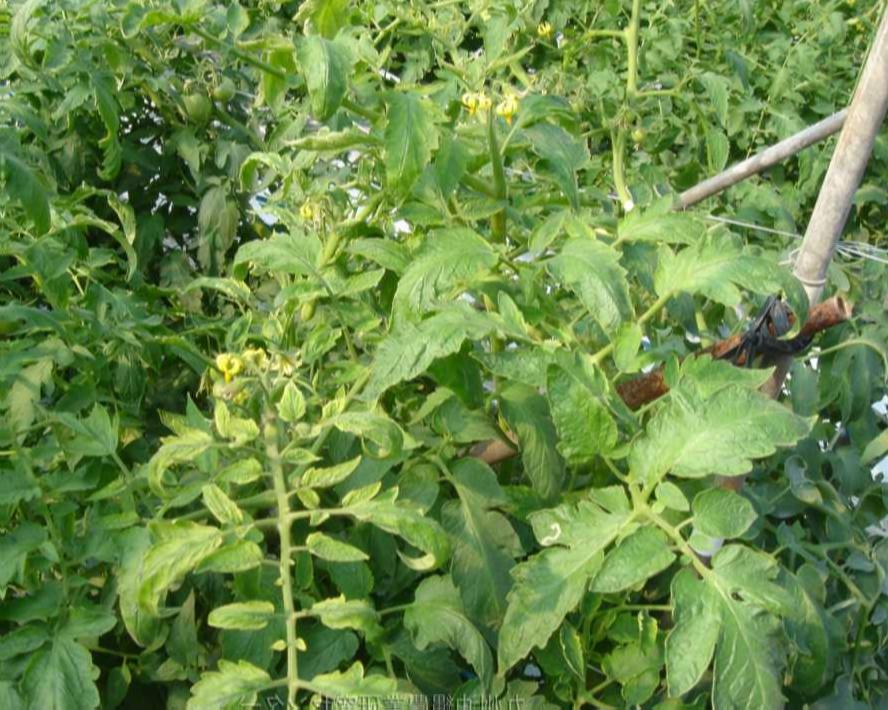Tomato leaf yellow virus: (666, 528, 830, 710), (483, 494, 630, 684), (613, 372, 787, 493), (337, 308, 507, 412), (639, 231, 830, 306), (367, 229, 502, 327), (112, 526, 223, 633), (365, 87, 446, 220), (344, 477, 448, 573), (592, 198, 746, 249), (153, 648, 263, 710), (134, 420, 207, 504), (224, 226, 326, 282), (312, 666, 432, 710), (186, 533, 273, 591), (300, 590, 383, 646), (295, 527, 370, 576), (196, 601, 279, 636), (260, 379, 308, 430)
